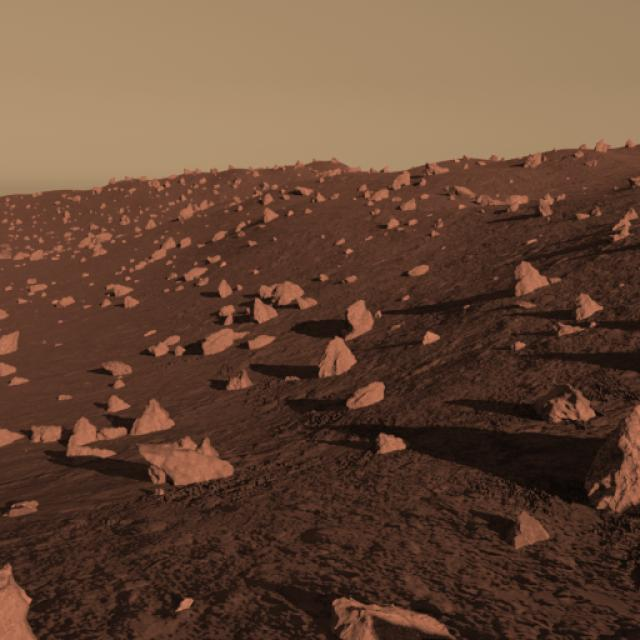rock: (582, 396, 640, 507), (134, 435, 242, 490), (0, 563, 35, 640), (314, 332, 364, 385), (252, 278, 305, 308)
